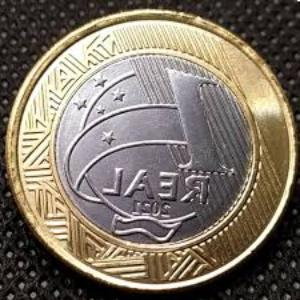1 real: (3, 7, 299, 293)
